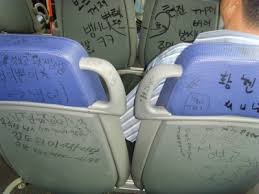seat: (4, 20, 126, 181)
